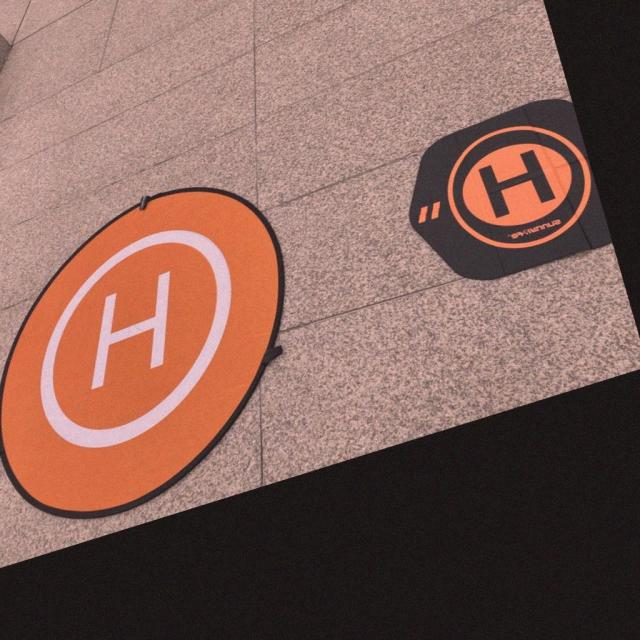helipad: (34, 223, 235, 453), (444, 122, 594, 252)
